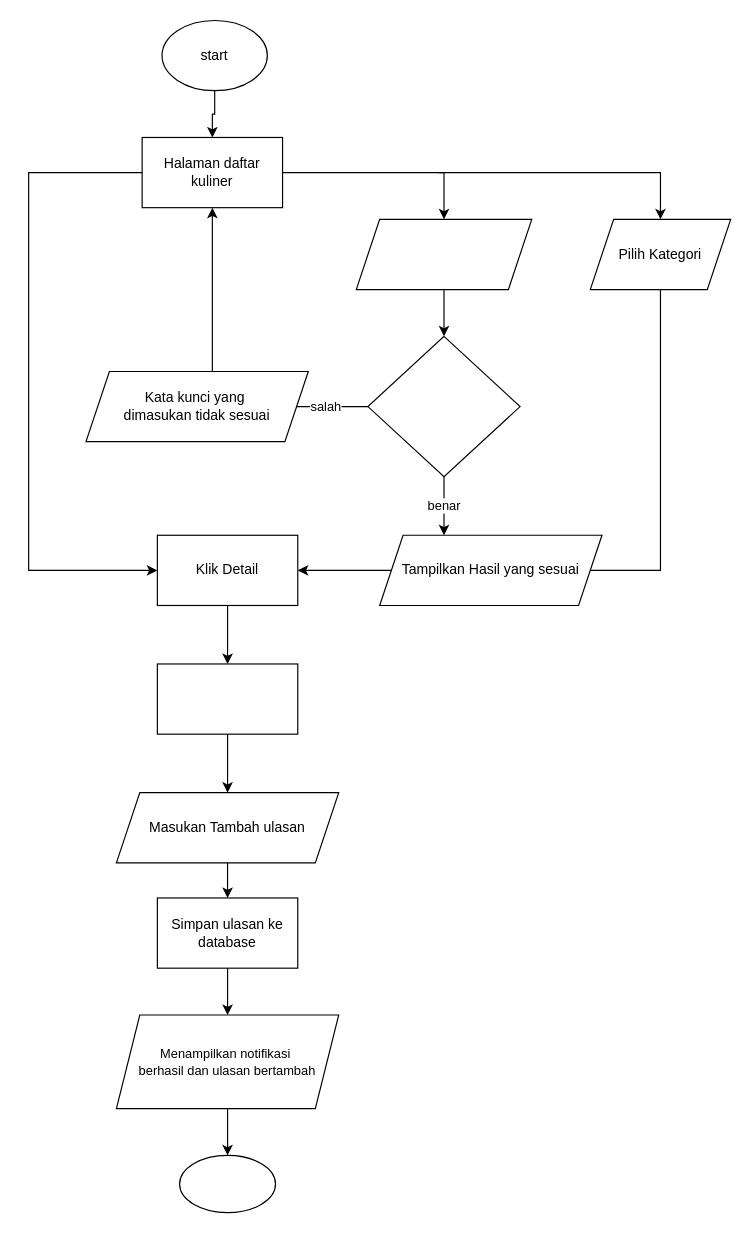
Some shapes in this 751 by 1233 pixel diagram are drawn without their labels. Here are the shapes that lost their labels. From the top down, the centre of each, then its label:
point 443,254: Masukan Kata kunci pada fitur search
point 443,406: Apakah kata kunci yang dimasukan sesuai
point 227,698: Halaman Detail Kuliner
point 227,1183: stop
